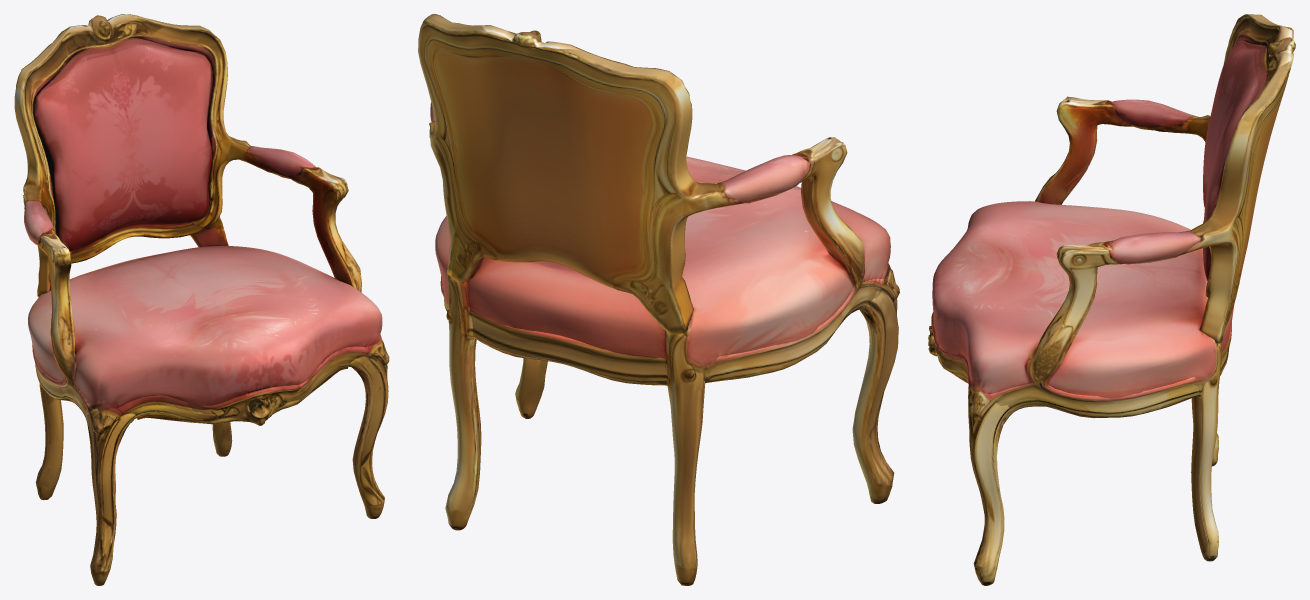
3 views of the same model, side by side, from view 1: azimuth 30°, elevation 25°; view 2: azimuth 150°, elevation 25°; view 3: azimuth 270°, elevation 25° (orthographic). The views are drawn at different scales.
Parts seen in each view (by area): view 1: root.0, root.3, root.1, root.2, root.5, root.4, root.6, root.9, root.8, root.7; view 2: root.1, root.0, root.2, root.6, root.7, root.5, root.8, root.4; view 3: root.0, root.2, root.1, root.3, root.4, root.7, root.9, root.8.
Boxes of the visible parts, bbox=[...] form: root.0: bbox=[28, 246, 382, 419]; root.3: bbox=[34, 37, 213, 251]; root.1: bbox=[14, 14, 271, 296]; root.2: bbox=[32, 167, 389, 434]; root.5: bbox=[85, 412, 137, 585]; root.4: bbox=[349, 351, 388, 518]; root.6: bbox=[35, 383, 63, 500]; root.9: bbox=[246, 146, 315, 178]; root.8: bbox=[24, 200, 54, 245]; root.7: bbox=[212, 422, 232, 456]; root.1: bbox=[418, 14, 743, 334]; root.0: bbox=[435, 156, 891, 380]; root.2: bbox=[440, 137, 899, 385]; root.6: bbox=[665, 330, 705, 585]; root.7: bbox=[445, 277, 481, 530]; root.5: bbox=[852, 290, 898, 503]; root.8: bbox=[717, 154, 810, 203]; root.4: bbox=[515, 358, 547, 418]; root.0: bbox=[932, 201, 1234, 427]; root.2: bbox=[928, 96, 1231, 418]; root.1: bbox=[1154, 14, 1295, 343]; root.3: bbox=[1203, 40, 1267, 280]; root.4: bbox=[968, 398, 1010, 585]; root.7: bbox=[1191, 342, 1221, 561]; root.9: bbox=[1110, 230, 1201, 264]; root.8: bbox=[1111, 99, 1199, 131].
Size of the model in its own units: 0.6206 by 0.85 by 0.5973.
Materials: 10 (10 with a texture image).
